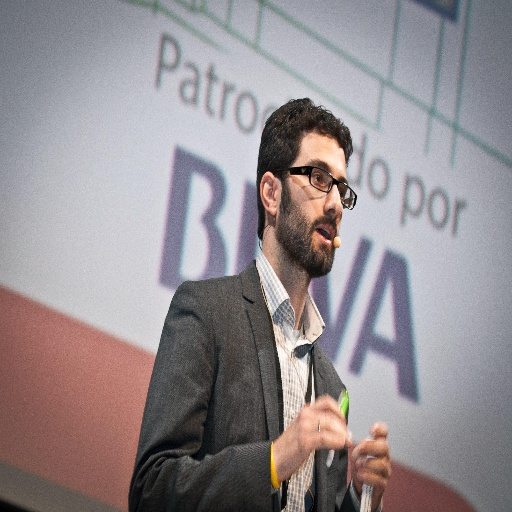hand: (275, 391, 351, 478), (351, 426, 396, 502)
